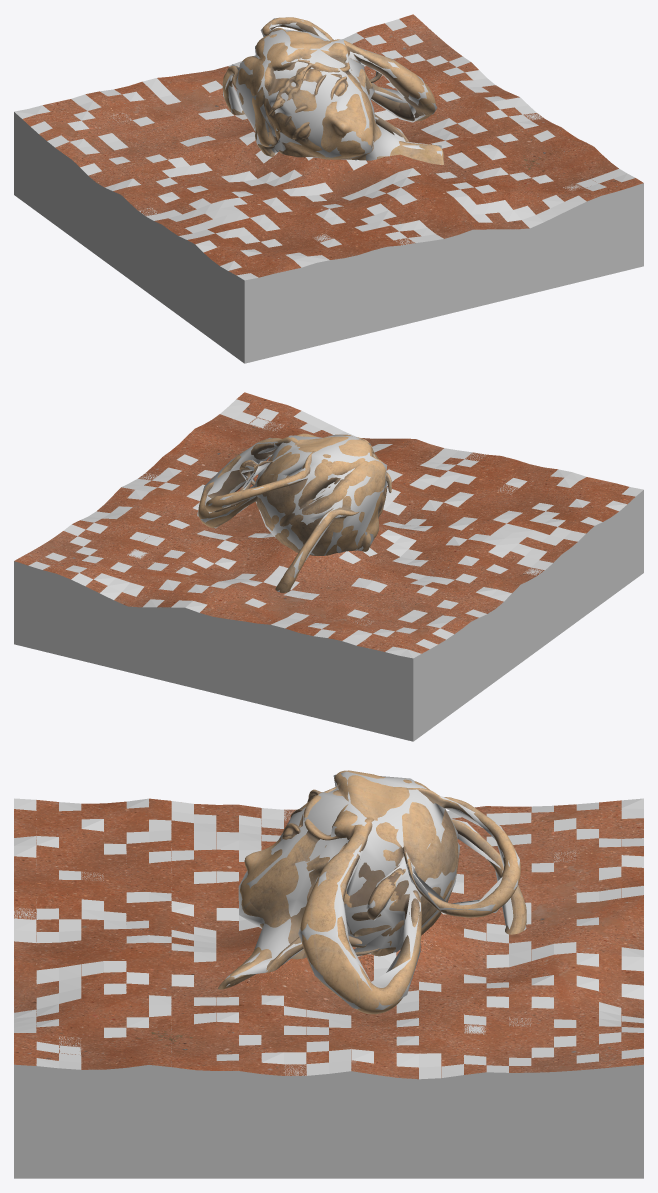
Rendered from Ground_statue.fbx.
3 renders of one model, top to bottom at view 1: azimuth 30°, elevation 25°; view 2: azimuth 150°, elevation 25°; view 3: azimuth 270°, elevation 25°, orthographic. The views are drawn at different scales.
Visible parts, largest first — view 1: Ground_statue_M02_MeshCollidor, Ground_statue_M02_LOD0, Statue_LOD0, Statue_MeshCollidor; view 2: Ground_statue_M02_MeshCollidor, Ground_statue_M02_LOD0, Statue_LOD0, Statue_MeshCollidor; view 3: Ground_statue_M02_MeshCollidor, Ground_statue_M02_LOD0, Statue_LOD0, Statue_MeshCollidor.
Boxes of the visible parts, x1,y1,x2,y2 form: Ground_statue_M02_MeshCollidor: [14, 19, 643, 363]; Ground_statue_M02_LOD0: [22, 14, 643, 277]; Statue_LOD0: [222, 17, 444, 164]; Statue_MeshCollidor: [223, 18, 442, 164]; Ground_statue_M02_MeshCollidor: [14, 399, 643, 741]; Ground_statue_M02_LOD0: [14, 392, 635, 653]; Statue_LOD0: [198, 433, 391, 592]; Statue_MeshCollidor: [197, 435, 387, 591]; Ground_statue_M02_MeshCollidor: [14, 798, 643, 1178]; Ground_statue_M02_LOD0: [14, 798, 643, 1079]; Statue_LOD0: [218, 770, 526, 1014]; Statue_MeshCollidor: [225, 771, 526, 1009].
Size of what is drawn, in the model's own units: 2000 by 885 by 2000.
